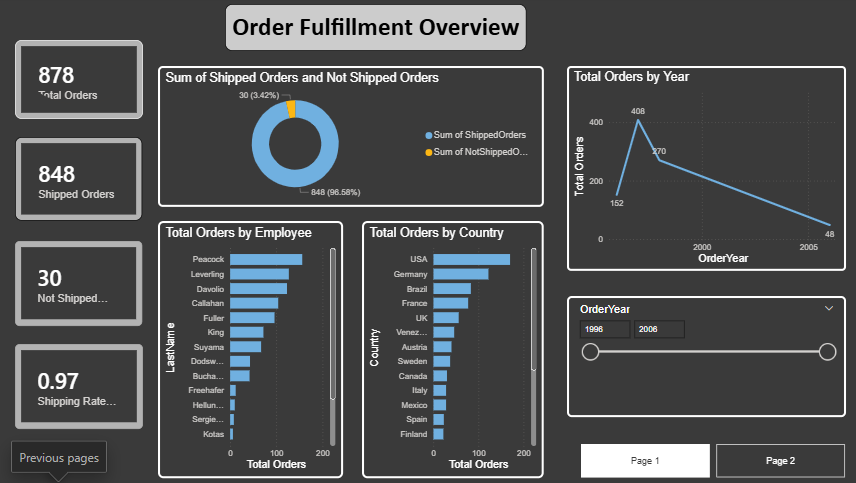

Layout of this report page (visuals, bound fields, positions):
{"tool":"powerbi","page":{"name":"Page 1","canvas":[1280,720],"ordinal":0},"visuals":[{"type":"cardVisual","fields":{"Data":["FactOrders.Total Orders"]},"box":[36.7,55.8,188.1,120.5],"z":0},{"type":"cardVisual","fields":{"Data":["DimCustomers.Shipped Orders"]},"box":[37.2,207.7,187.4,123.3],"z":1000},{"type":"cardVisual","fields":{"Data":["DimCustomers.Not Shipped Orders"]},"box":[37.2,359.7,187.4,125],"z":2000},{"type":"lineChart","title":"Total Orders by Year","fields":{"Y":["FactOrders.Total Orders"],"Category":["DimTime.OrderYear"]},"box":[847.8,102.9,410,301.2],"z":3000},{"type":"textbox","box":[346,11.8,443.5,68.9],"z":4000},{"type":"donutChart","title":"Sum of Shipped Orders and Not Shipped Orders","fields":{"Y":["FactOrders.ShippedOrders","FactOrders.NotShippedOrders"]},"box":[246.9,102.9,567.2,207.2],"z":5000},{"type":"slicer","fields":{"Values":["DimTime.OrderYear"]},"box":[837.6,421.7,410,177.8],"z":6000},{"type":"barChart","fields":{"Category":["DimCustomers.Country"],"Y":["FactOrders.Total Orders"]},"box":[546.6,330.6,267.4,377.6],"z":7000},{"type":"clusteredBarChart","title":"Total Orders by Employee","fields":{"Category":["DimEmployee.LastName"],"Y":["FactOrders.Total Orders"]},"box":[246.9,330.6,271.8,377.6],"z":8000},{"type":"cardVisual","fields":{"Data":["DimCustomers.Shipping Rate (%)"]},"box":[37.2,516.7,187.4,125],"z":9000}]}

Visuals, with their boxes in screenshot pixels (x1, y1, x2, y2), scaled from the page's 1280x720 canvas onto the 856x483 screenshot:
cardVisual - FactOrders.Total Orders: 25, 37, 150, 118
cardVisual - DimCustomers.Shipped Orders: 25, 139, 150, 222
cardVisual - DimCustomers.Not Shipped Orders: 25, 241, 150, 325
"Total Orders by Year" lineChart: 567, 69, 841, 271
textbox: 231, 8, 528, 54
"Sum of Shipped Orders and Not Shipped Orders" donutChart: 165, 69, 544, 208
slicer - DimTime.OrderYear: 560, 283, 834, 402
barChart - DimCustomers.Country x FactOrders.Total Orders: 366, 222, 544, 475
"Total Orders by Employee" clusteredBarChart: 165, 222, 347, 475
cardVisual - DimCustomers.Shipping Rate (%): 25, 347, 150, 430
